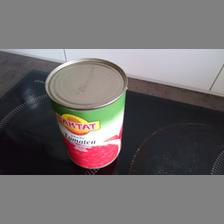Tomatensauce: (42, 56, 128, 168)
